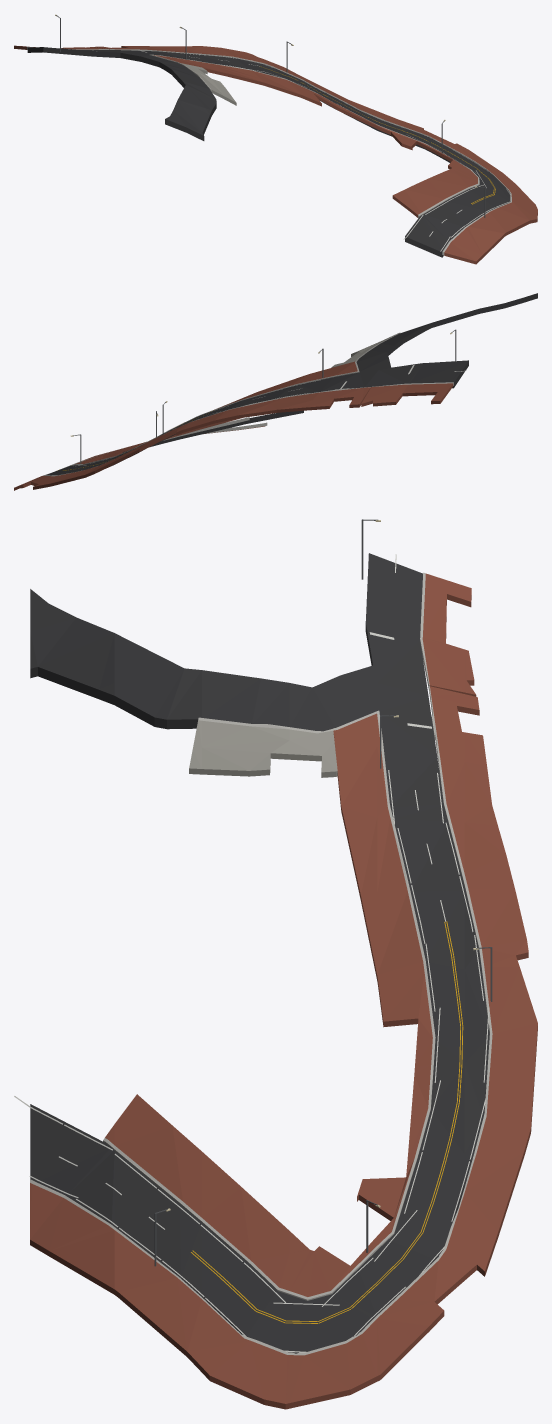
The model's file is 17-109453-59479.37aadaee.glb.
The picture shows the model from 3 angles, top to bottom: view 1: azimuth 30°, elevation 25°; view 2: azimuth 150°, elevation 25°; view 3: azimuth 270°, elevation 25°; orthographic projection. The views are drawn at different scales.
Size of the model in its own units: 110 by 63.06 by 59.84.
